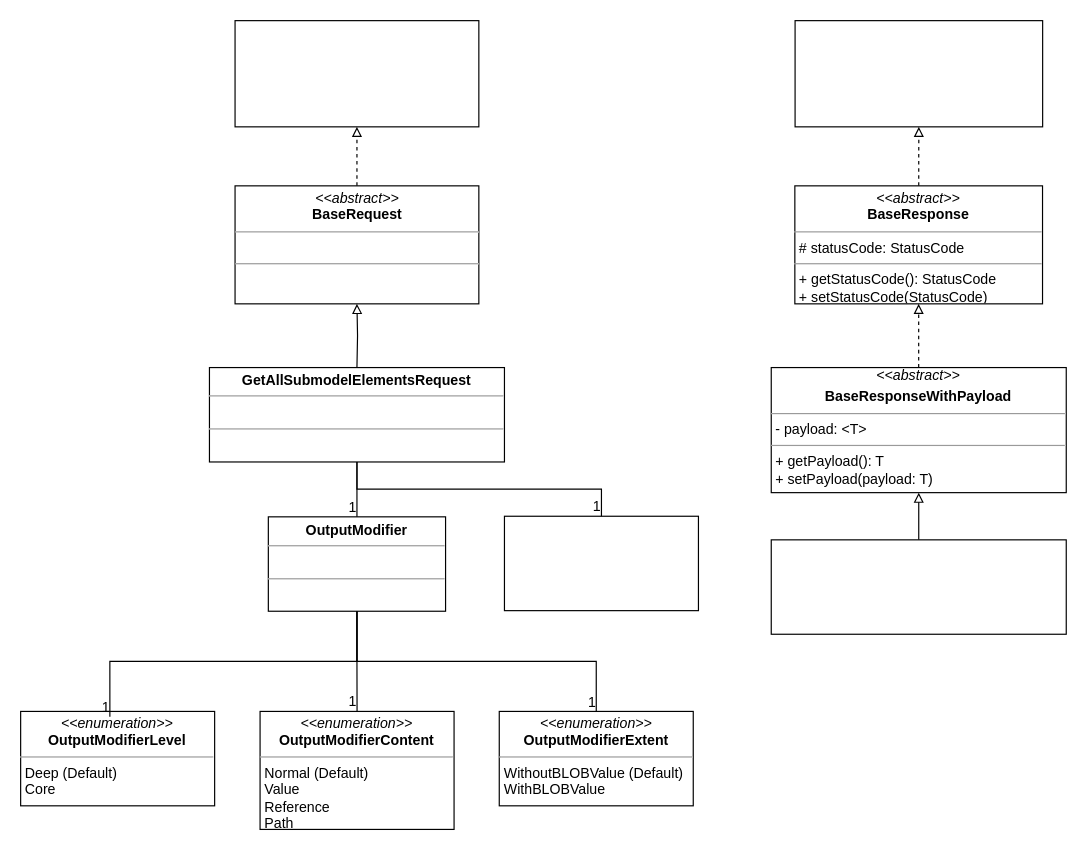
Some shapes in this 1088 by 851 pixel diagram are drawn without their labels. Here are the shapes that lost their labels. From the top down, the centre of each, then its label:
At (x=356, y=73): "<<Interface>> Request".
At (x=918, y=73): "<<Interface>> Response".
At (x=600, y=563): "<<enumeration>> SearchOptions Recursive (Default) Non-Recursive".
At (x=918, y=586): "GetAllSubmodelElementsResponse - payload: SubmodelElement []".
